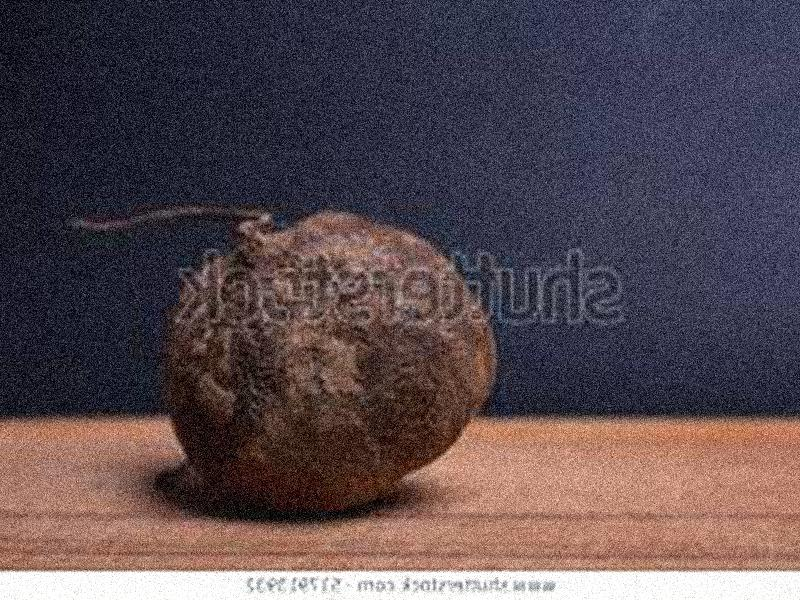Beet: (62, 204, 495, 511)
